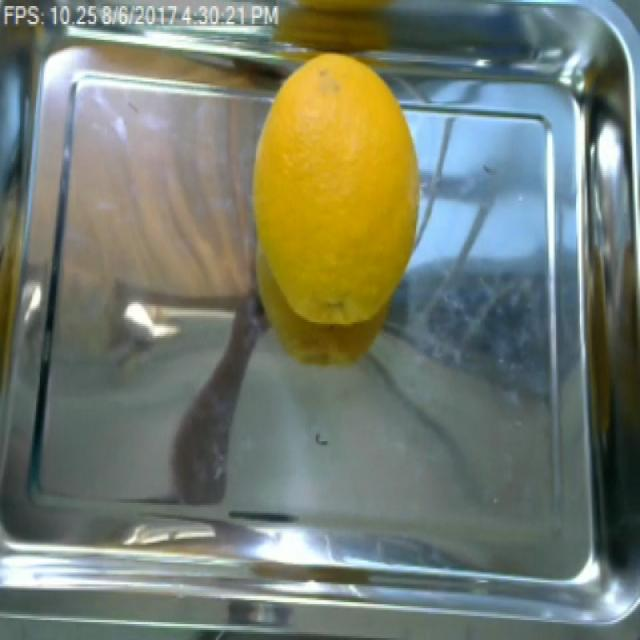Fruit: (240, 48, 431, 380)
